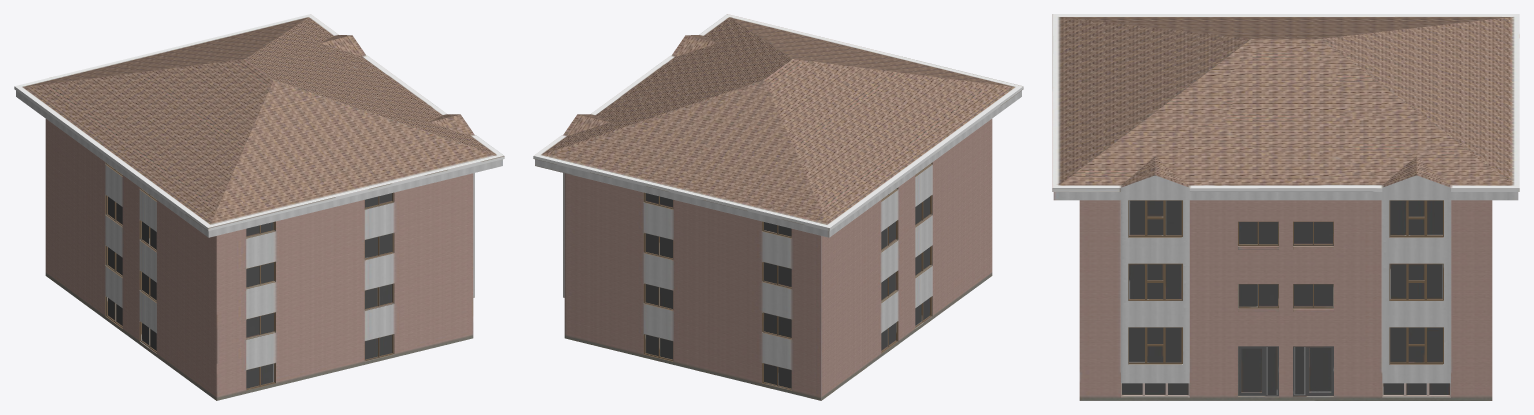
The model's file is Charlies Chow (Version 2.0).fbx.
3 renders of one model, left to right at view 1: azimuth 30°, elevation 25°; view 2: azimuth 150°, elevation 25°; view 3: azimuth 270°, elevation 25°, orthographic. The views are drawn at different scales.
Visible parts, largest first — view 1: Charlies_Chow_LOD0; view 2: Charlies_Chow_LOD0; view 3: Charlies_Chow_LOD0.
Part boxes in pixels (<box>): Charlies_Chow_LOD0: <box>14,14,504,400</box>; Charlies_Chow_LOD0: <box>533,14,1023,400</box>; Charlies_Chow_LOD0: <box>1052,14,1519,400</box>.
Size of what is drawn, in the model's own units: 1500 by 1150 by 1700.
1 material, 1 textured.
